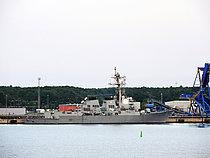MIL_Ship: (22, 96, 175, 126)
